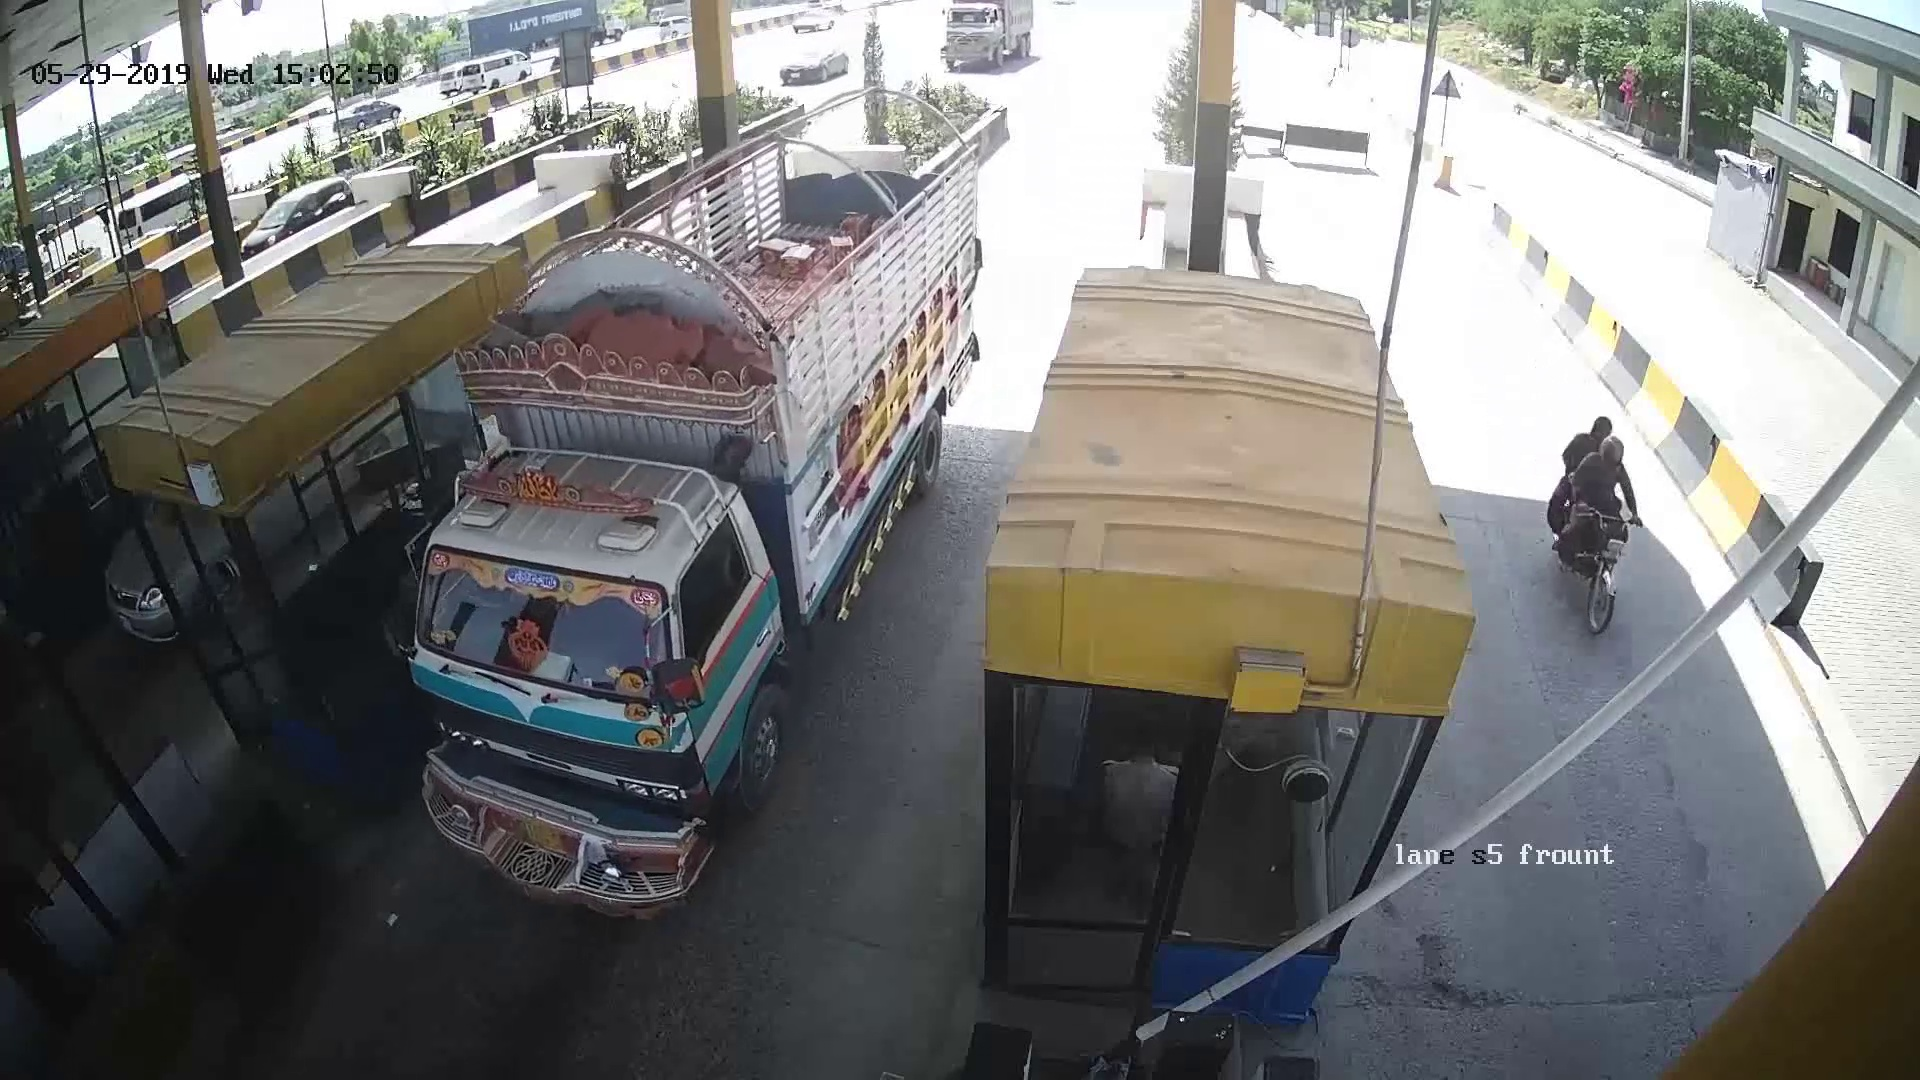truck: (473, 158, 971, 899)
